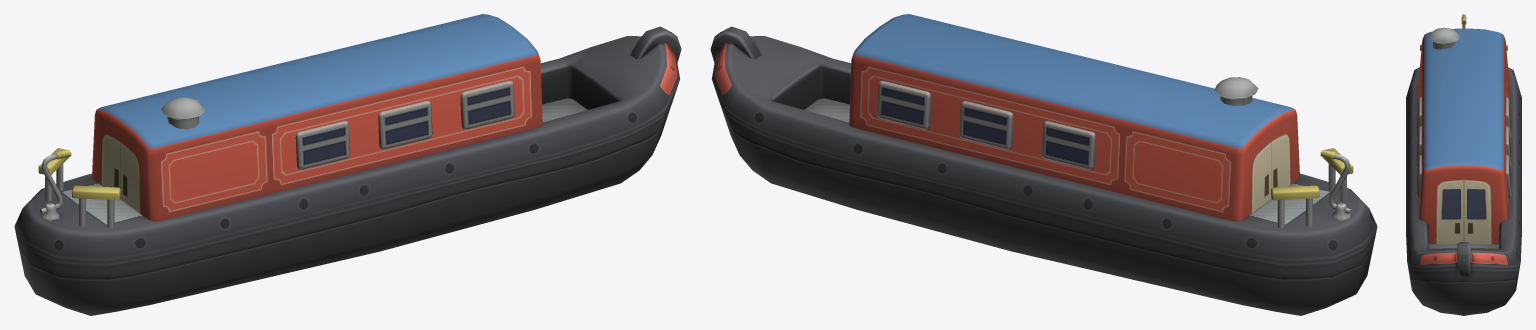
File: Mesh_Item_03_Ship.FBX
3 renders of one model, left to right at view 1: azimuth 30°, elevation 25°; view 2: azimuth 150°, elevation 25°; view 3: azimuth 270°, elevation 25°, orthographic. The views are drawn at different scales.
Visible parts, largest first — view 1: Mesh_Item_03_Ship; view 2: Mesh_Item_03_Ship; view 3: Mesh_Item_03_Ship.
Boxes of the visible parts, x1,y1,x2,y2 form: Mesh_Item_03_Ship: (14, 14, 681, 315); Mesh_Item_03_Ship: (710, 14, 1377, 315); Mesh_Item_03_Ship: (1406, 14, 1521, 315).
Size of the model in its own units: 13.08 by 3.8 by 2.8.
Materials: 1 (1 with a texture image).
